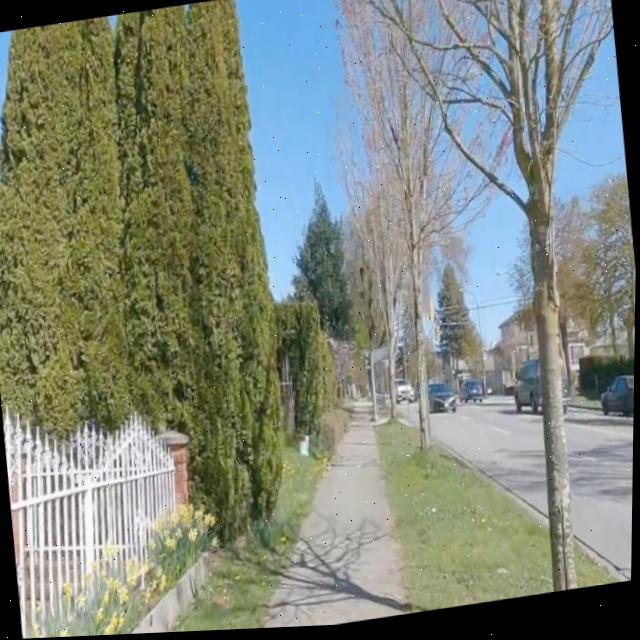Automobile: (429, 382, 485, 416), (513, 365, 542, 417), (601, 382, 635, 421), (398, 383, 416, 405)
Obstacle: (366, 0, 613, 597), (286, 302, 338, 454)
Road: (433, 401, 548, 517), (565, 416, 635, 585), (399, 407, 418, 428)
Sidewalk: (267, 414, 408, 630)
